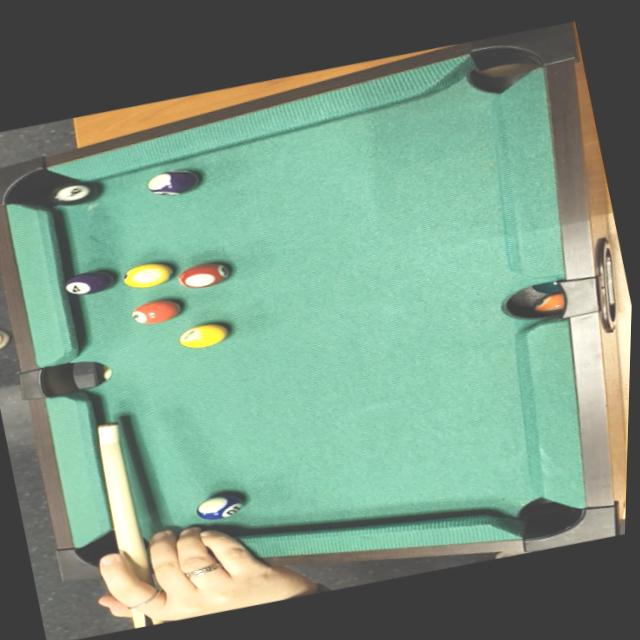other: (43, 170, 112, 214), (141, 159, 208, 202), (56, 260, 121, 302), (185, 485, 252, 525), (171, 256, 237, 295), (125, 290, 189, 330), (116, 256, 182, 294), (173, 315, 234, 354)
